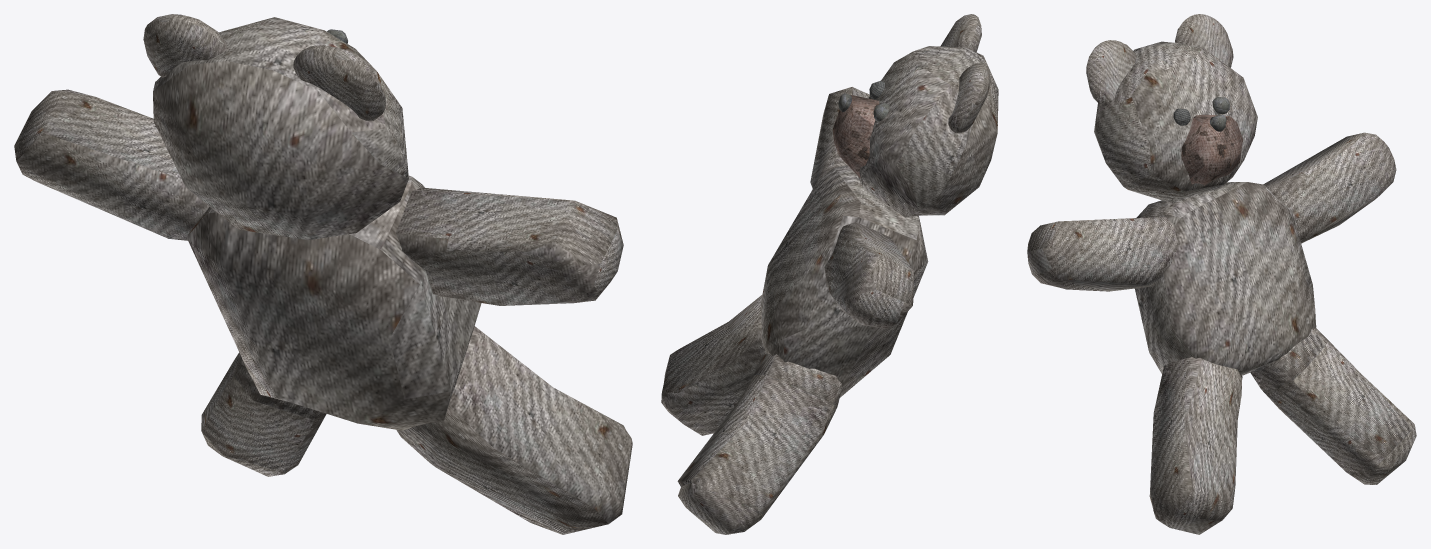
The model's file is teddy.glb.
3 views of the same model, side by side, from view 1: azimuth 30°, elevation 25°; view 2: azimuth 150°, elevation 25°; view 3: azimuth 270°, elevation 25° (orthographic). The views are drawn at different scales.
Parts seen in each view (by area): view 1: Teddy; view 2: Teddy; view 3: Teddy.
Part boxes in pixels (<box>): Teddy: <box>14,14,632,534</box>; Teddy: <box>661,14,998,534</box>; Teddy: <box>1027,14,1416,534</box>.
Bounding box in the file's own units: 0.7508 × 0.9155 × 0.8156.
Materials: 1 (1 with a texture image).
